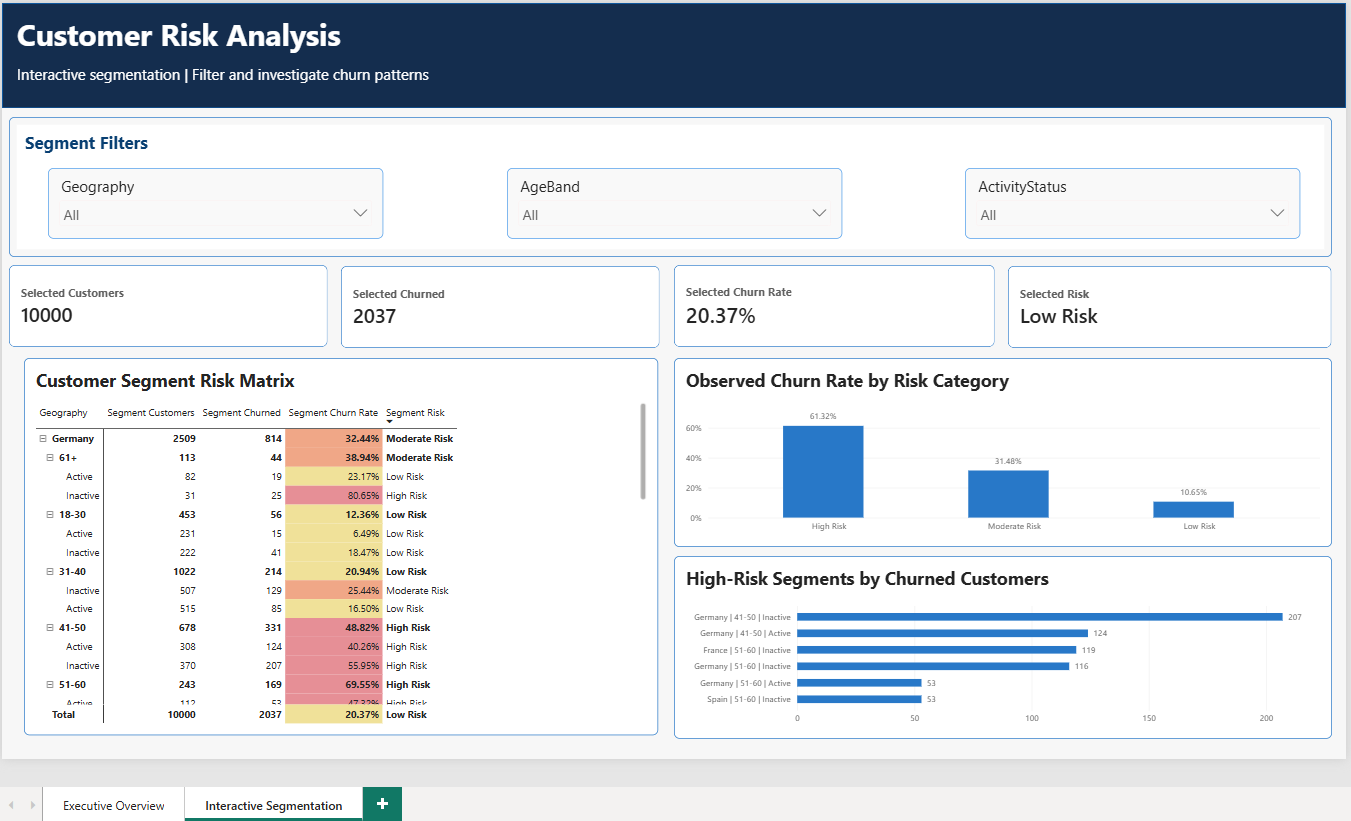

Layout of this report page (visuals, bound fields, positions):
{"tool":"powerbi","page":{"name":"Interactive Segmentation","canvas":[1920,1080],"ordinal":1},"visuals":[{"type":"shape","box":[21.4,162.9,1878.6,200],"z":0},{"type":"clusteredColumnChart","title":"Observed Churn Rate by Risk Category","fields":{"Category":["Segment Analysis.Risk Category"],"Y":["Segment Analysis.Risk Category Churn Rate"]},"box":[960,507.1,940,270],"z":2000},{"type":"clusteredBarChart","title":"High-Risk Segments by Churned Customers","fields":{"Y":["Sum(Segment Analysis.Churned Customers)"],"Category":["Segment Analysis.Segment"]},"box":[960,790,940,261.4],"z":3000},{"type":"pivotTable","title":"Customer Segment Risk Matrix","fields":{"Rows":["Segment Analysis.Geography","Segment Analysis.AgeBand","Segment Analysis.ActivityStatus"],"Values":["Segment Analysis.Segment Customers","Segment Analysis.Segment Churned","Segment Analysis.Segment Churn Rate","Segment Analysis.Segment Risk"]},"box":[21.4,507.1,915.7,538.6],"z":4000},{"type":"slicer","fields":{"Values":["Segment Analysis.Geography"]},"box":[65.7,235.7,478.6,101.4],"z":5000},{"type":"slicer","fields":{"Values":["Segment Analysis.AgeBand"]},"box":[720.7,235.7,478.6,101.4],"z":6000},{"type":"slicer","fields":{"Values":["Segment Analysis.ActivityStatus"]},"box":[1375.7,235.7,478.6,101.4],"z":7000},{"type":"cardVisual","fields":{"Data":["Segment Analysis.Selected Customers"]},"box":[21.4,374.3,444.3,117.1],"z":8000},{"type":"cardVisual","fields":{"Data":["Segment Analysis.Selected Churned"]},"box":[484.8,375.7,455.7,117.1],"z":9000},{"type":"cardVisual","fields":{"Data":["Segment Analysis.Selected Churn Rate"]},"box":[959.5,374.3,458.6,117.1],"z":10000},{"type":"cardVisual","fields":{"Data":["Segment Analysis.Selected Risk"]},"box":[1437.1,375.7,462.9,117.1],"z":11000},{"type":"shape","box":[0,0,1920,150.3],"z":12000},{"type":"textbox","box":[21.9,16,551.5,71.5],"z":13000},{"type":"textbox","box":[21.9,87.5,598.2,45.2],"z":14000},{"type":"textbox","box":[33.3,163.3,181.1,53.3],"z":15000}]}

Visuals, with their boxes on the page's 1920x1080 design canvas (x1, y1, x2, y2). These are canvas units, not pixel positions in the 1351x821 screenshot, which may show the page scaled, cropped or inside an application window:
shape: l=21, t=163, r=1900, b=363
"Observed Churn Rate by Risk Category" clusteredColumnChart: l=960, t=507, r=1900, b=777
"High-Risk Segments by Churned Customers" clusteredBarChart: l=960, t=790, r=1900, b=1051
"Customer Segment Risk Matrix" pivotTable: l=21, t=507, r=937, b=1046
slicer - Segment Analysis.Geography: l=66, t=236, r=544, b=337
slicer - Segment Analysis.AgeBand: l=721, t=236, r=1199, b=337
slicer - Segment Analysis.ActivityStatus: l=1376, t=236, r=1854, b=337
cardVisual - Segment Analysis.Selected Customers: l=21, t=374, r=466, b=491
cardVisual - Segment Analysis.Selected Churned: l=485, t=376, r=940, b=493
cardVisual - Segment Analysis.Selected Churn Rate: l=960, t=374, r=1418, b=491
cardVisual - Segment Analysis.Selected Risk: l=1437, t=376, r=1900, b=493
shape: l=0, t=0, r=1920, b=150
textbox: l=22, t=16, r=573, b=88
textbox: l=22, t=88, r=620, b=133
textbox: l=33, t=163, r=214, b=217
